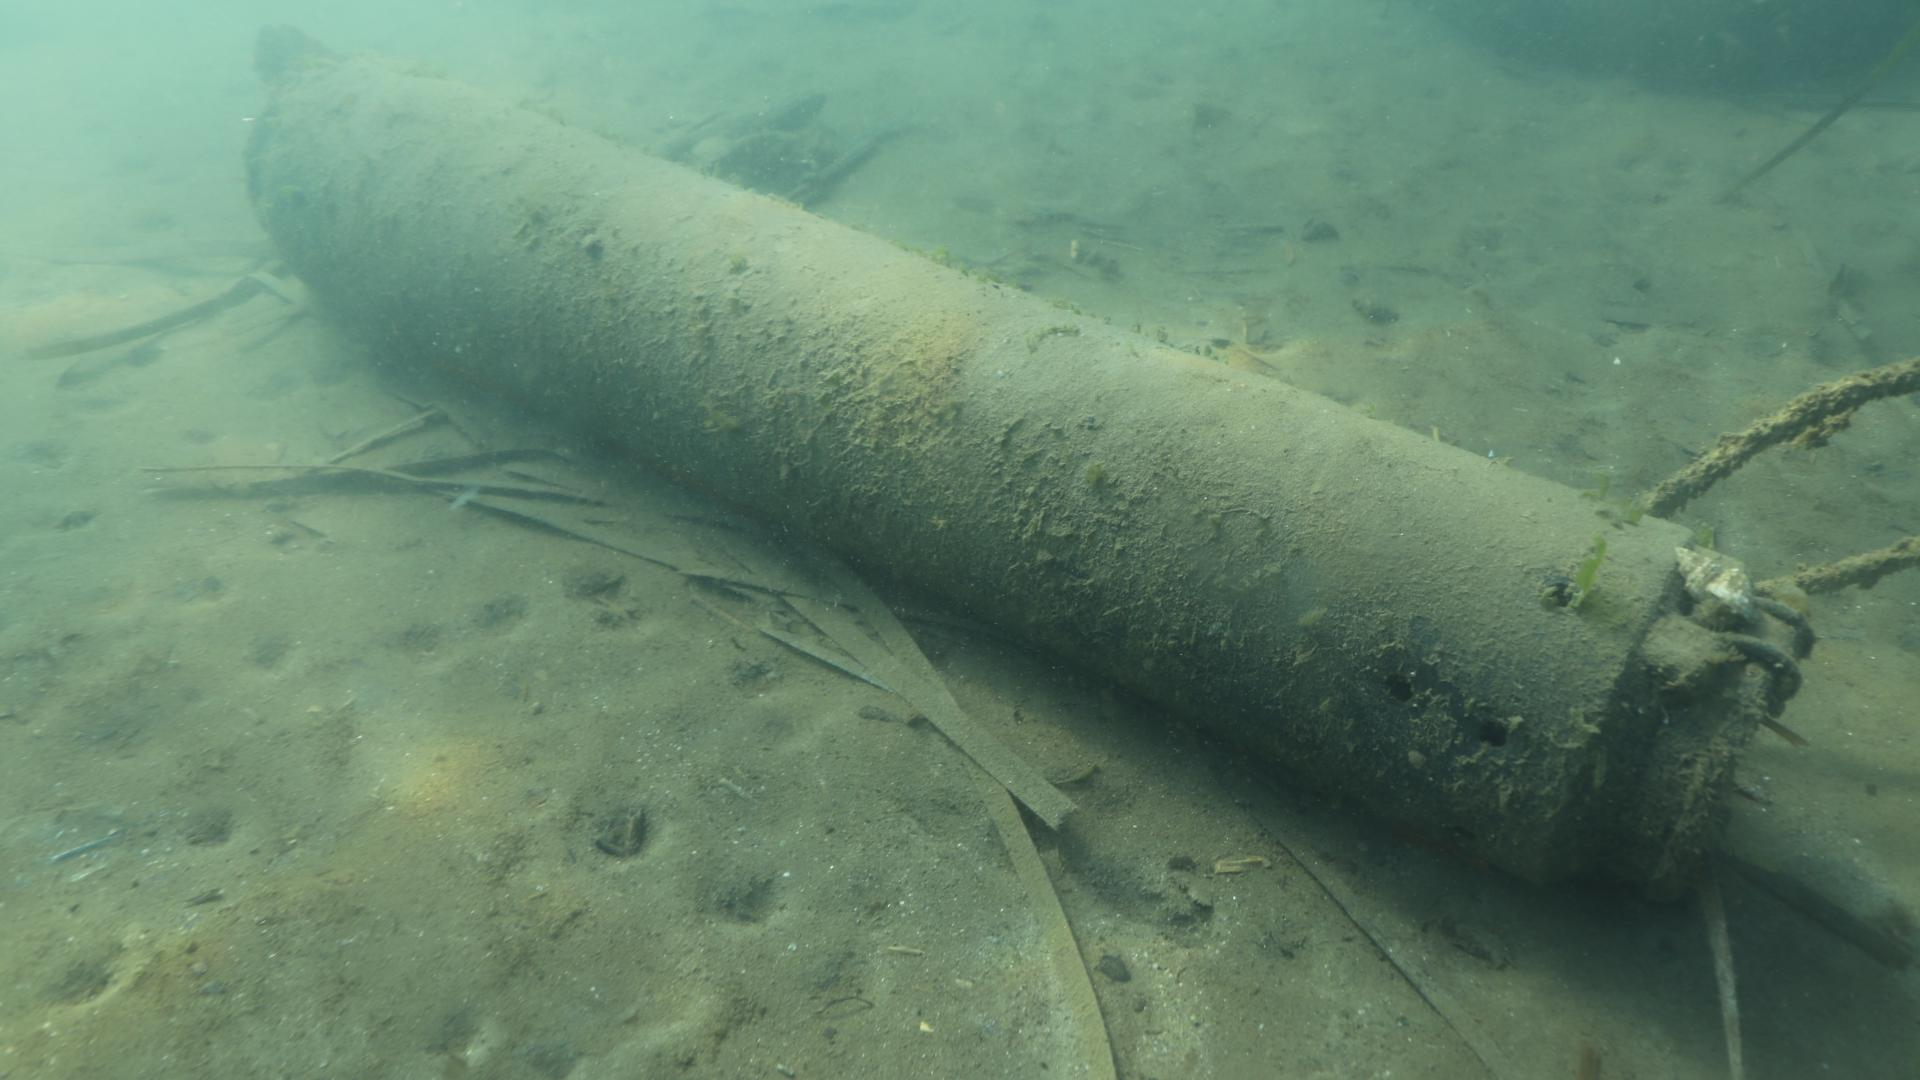eel fish trap: (244, 25, 1808, 901)
rope: (1643, 357, 1920, 597)
